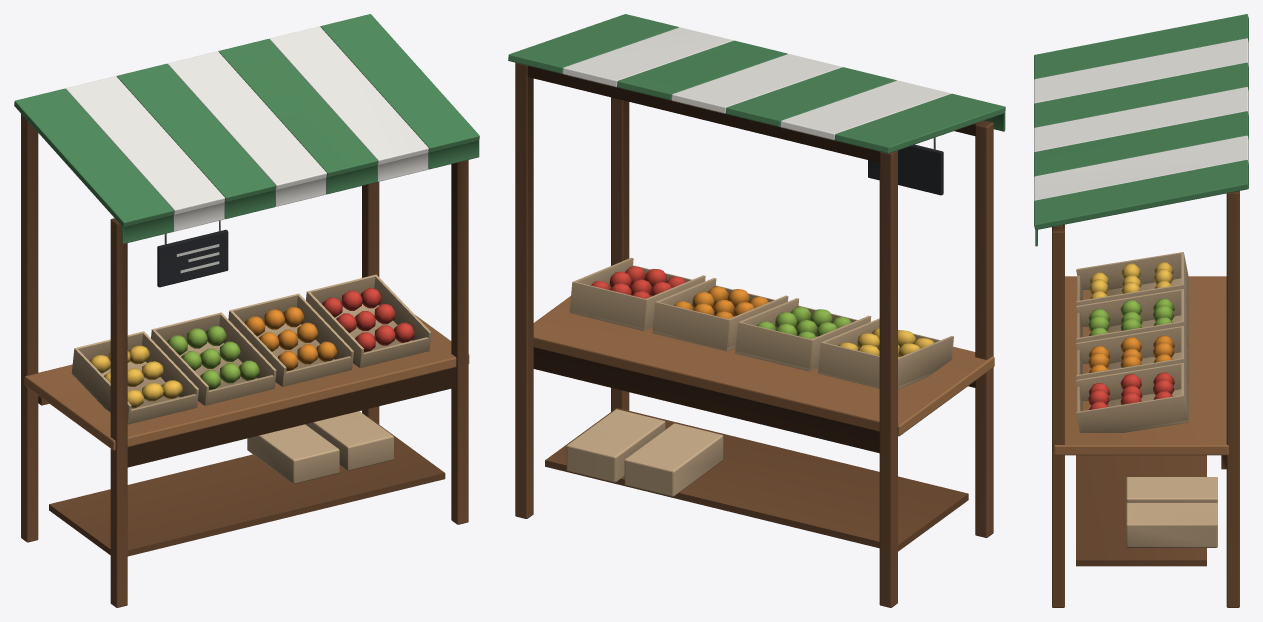
File: marketStall.glb
3 renders of one model, left to right at view 1: azimuth 30°, elevation 25°; view 2: azimuth 150°, elevation 25°; view 3: azimuth 270°, elevation 25°, orthographic. The views are drawn at different scales.
Parts seen in each view (by area): view 1: marketStall; view 2: marketStall; view 3: marketStall.
Part boxes in pixels (x1,y1,x2,y2): marketStall: (14,14,479,607); marketStall: (508,14,1005,607); marketStall: (1034,14,1248,607).
Size of the model in its own units: 1.84 by 2.15 by 0.9827.
